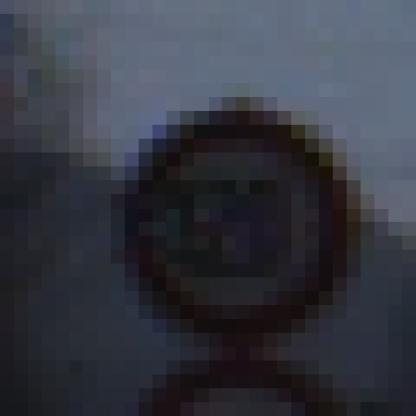Speed Limit 120: (132, 112, 347, 336)
